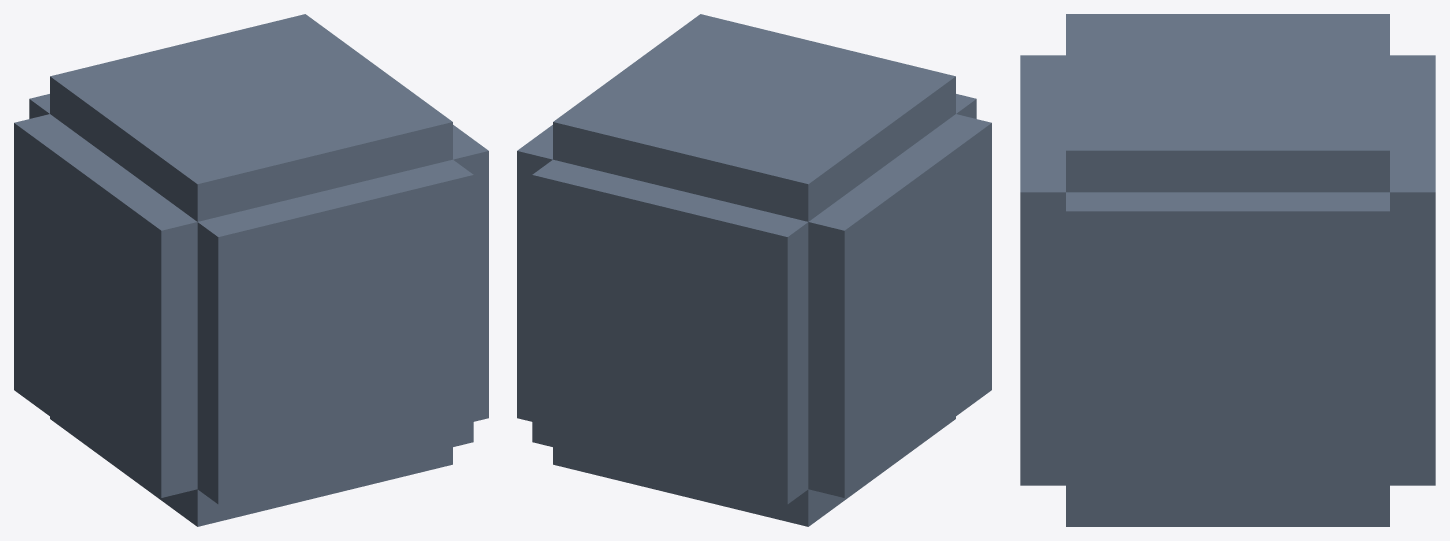
Rendered from bb_comp_DiceTray_Die.fbx.
3 renders of one model, left to right at view 1: azimuth 30°, elevation 25°; view 2: azimuth 150°, elevation 25°; view 3: azimuth 270°, elevation 25°, orthographic. The views are drawn at different scales.
Visible parts, largest first — view 1: bb_comp_DiceTray_Die; view 2: bb_comp_DiceTray_Die; view 3: bb_comp_DiceTray_Die.
Boxes of the visible parts, x1,y1,x2,y2 form: bb_comp_DiceTray_Die: [14, 14, 488, 526]; bb_comp_DiceTray_Die: [517, 14, 991, 526]; bb_comp_DiceTray_Die: [1020, 14, 1435, 526].
Bounding box in the file's own units: 1 × 1 × 1.
